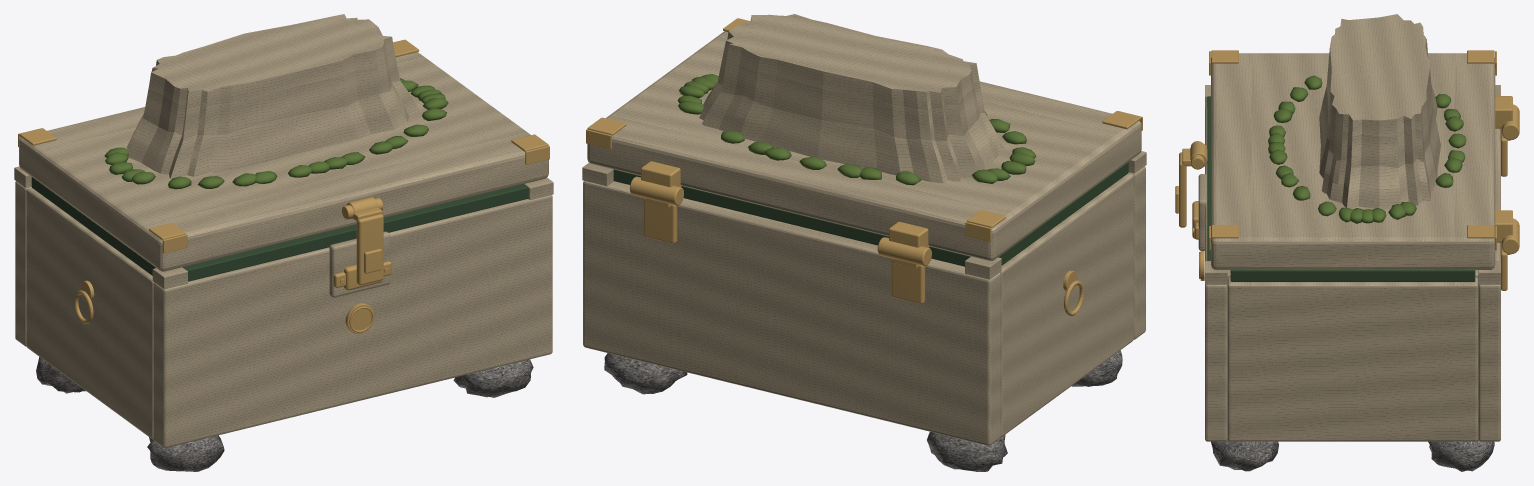
File: south-africa.glb
3 renders of one model, left to right at view 1: azimuth 30°, elevation 25°; view 2: azimuth 150°, elevation 25°; view 3: azimuth 270°, elevation 25°, orthographic. The views are drawn at different scales.
Parts seen in each view (by area): view 1: Sandstone / front rear, Lid / polished slab, Terrain / Table Mountain mesa, Sandstone / side, Mineral seam / long, Granite foot, Sandstone / front rear.001, Granite foot.002, Sandstone / clasp seat, Latch / lifting hasp, Mineral seam / side, Granite foot.001 (+2 smaller); view 2: Sandstone / front rear.001, Lid / polished slab, Terrain / Table Mountain mesa, Sandstone / side, Mineral seam / long.001, Sandstone / front rear, Granite foot.001, Granite foot.003, Mineral seam / side, Hinge / fixed mount.001, Hinge / fixed mount, Hinge / fixed barrel (+5 smaller); view 3: Sandstone / side.001, Lid / polished slab, Terrain / Table Mountain mesa, Sandstone / front rear.001, Sandstone / front rear, Mineral seam / side.001, Granite foot.002, Granite foot.003, Sandstone / clasp seat, Mineral seam / long, Latch / lifting hasp, Hinge / moving leaf (+9 smaller).
Part boxes in pixels (x1,y1,x2,y2): Sandstone / front rear: (153, 195, 552, 447); Lid / polished slab: (19, 52, 548, 271); Terrain / Table Mountain mesa: (126, 14, 419, 178); Sandstone / side: (26, 188, 154, 439); Mineral seam / long: (182, 184, 528, 281); Granite foot: (147, 435, 224, 471); Sandstone / front rear.001: (15, 181, 31, 346); Granite foot.002: (453, 359, 533, 397); Sandstone / clasp seat: (329, 231, 390, 297); Latch / lifting hasp: (356, 214, 383, 285); Mineral seam / side: (31, 177, 155, 275); Granite foot.001: (36, 357, 85, 393); Sandstone / front rear.001: (583, 180, 1000, 445); Lid / polished slab: (587, 31, 1141, 260); Terrain / Table Mountain mesa: (699, 14, 1004, 183); Sandstone / side: (1000, 173, 1133, 436); Mineral seam / long.001: (613, 169, 970, 266); Sandstone / front rear: (1128, 166, 1145, 339); Granite foot.001: (927, 432, 1007, 471); Granite foot.003: (604, 353, 687, 394); Mineral seam / side: (998, 162, 1128, 265); Hinge / fixed mount.001: (643, 198, 677, 243); Hinge / fixed mount: (891, 258, 925, 303); Hinge / fixed barrel: (877, 237, 931, 266); Sandstone / side.001: (1227, 277, 1478, 441); Lid / polished slab: (1211, 53, 1495, 269); Terrain / Table Mountain mesa: (1319, 14, 1440, 209); Sandstone / front rear.001: (1478, 128, 1500, 441); Sandstone / front rear: (1205, 108, 1227, 441); Mineral seam / side.001: (1230, 270, 1475, 281); Granite foot.002: (1211, 440, 1278, 471); Granite foot.003: (1428, 440, 1494, 471); Sandstone / clasp seat: (1198, 174, 1207, 250); Mineral seam / long: (1207, 96, 1210, 260); Latch / lifting hasp: (1179, 152, 1186, 227); Hinge / moving leaf: (1495, 96, 1512, 128).
Bounding box in the file's own units: 3.79 × 3.01 × 2.88.
Materials: 5 (2 with a texture image).
